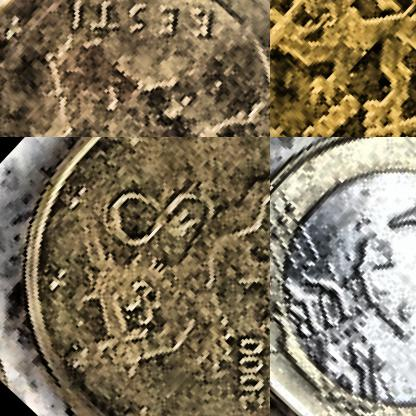coin: (0, 137, 269, 415), (270, 137, 415, 415), (0, 0, 269, 136), (270, 0, 415, 136)
